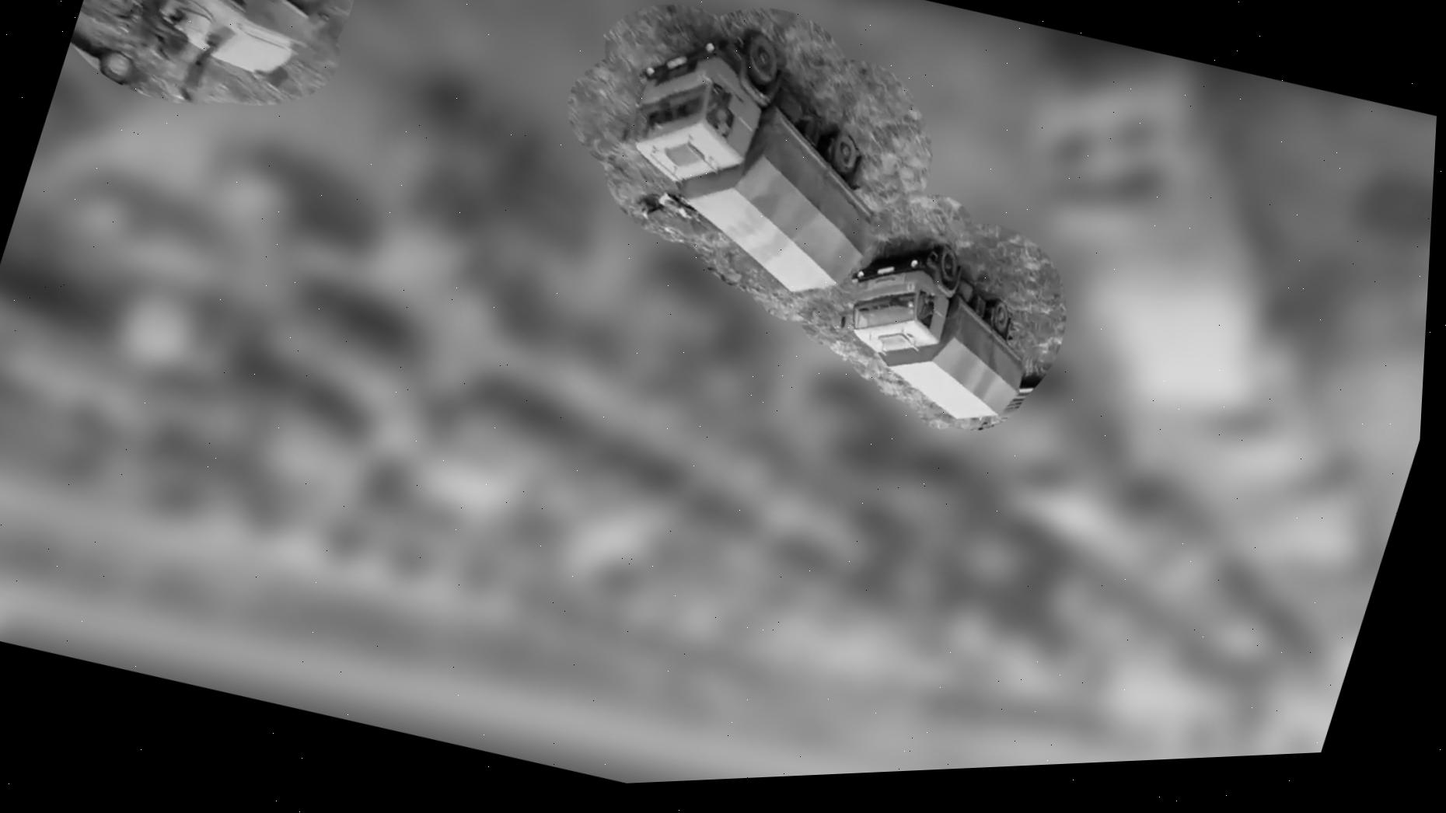armored_car: (69, 0, 353, 92)
truck: (581, 0, 934, 318), (825, 221, 1061, 436)
